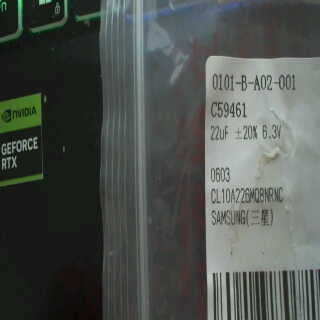22uF: (207, 121, 231, 144)
